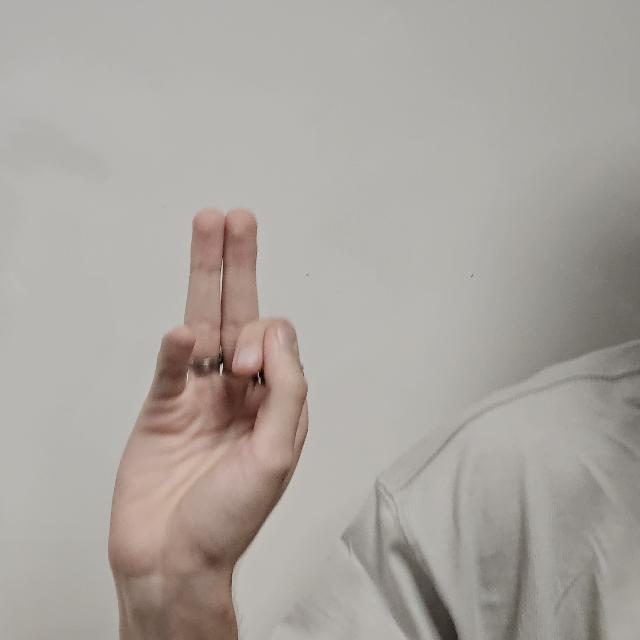R: (110, 195, 310, 617)
